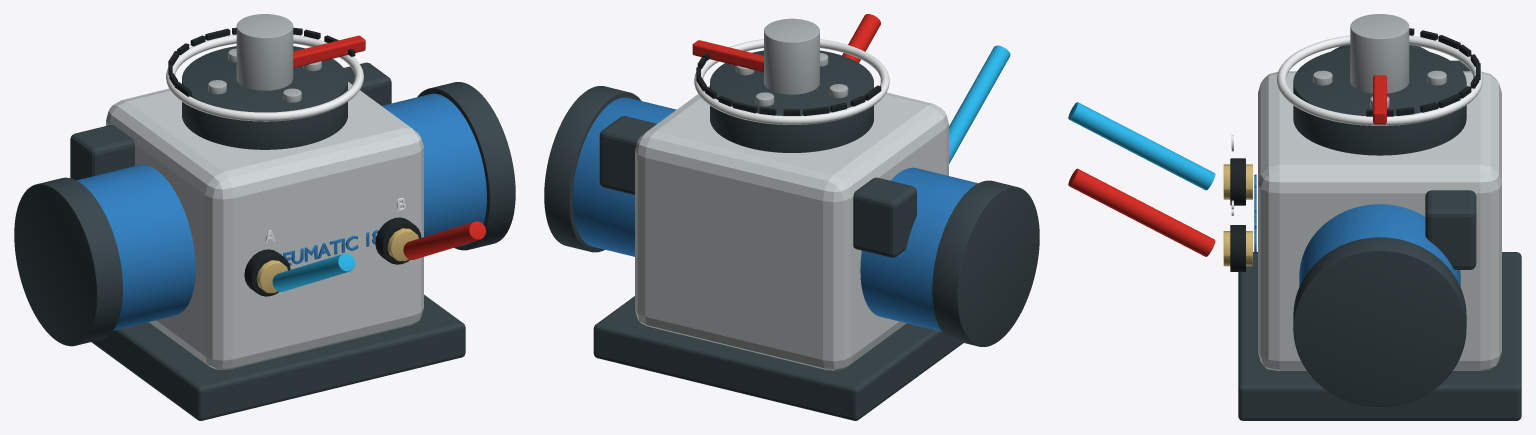
The model's file is pneumatic_rotary_actuator.glb.
3 views of the same model, side by side, from view 1: azimuth 30°, elevation 25°; view 2: azimuth 150°, elevation 25°; view 3: azimuth 270°, elevation 25° (orthographic). The views are drawn at different scales.
Visible parts, largest first — view 1: ACTUATOR_BODY, MOUNT, LEFT_END_CAP, RACK_PISTON_LEFT, KIN_OUTPUT_FLANGE, RACK_PISTON_RIGHT, RIGHT_END_CAP, OUTPUT_SHAFT, ANGLE_SCALE, ANGLE_STOP_LEFT, AIR_LINE_0.2, AIR_LINE_-0.2 (+7 smaller); view 2: ACTUATOR_BODY, MOUNT, LEFT_END_CAP, KIN_OUTPUT_FLANGE, RACK_PISTON_LEFT, RACK_PISTON_RIGHT, RIGHT_END_CAP, ANGLE_STOP_LEFT, OUTPUT_SHAFT, ANGLE_SCALE, ANGLE_STOP_RIGHT, AIR_LINE_-0.2 (+2 smaller); view 3: ACTUATOR_BODY, RIGHT_END_CAP, MOUNT, KIN_OUTPUT_FLANGE, RACK_PISTON_RIGHT, OUTPUT_SHAFT, ANGLE_SCALE, ANGLE_STOP_RIGHT, AIR_LINE_0.2, AIR_LINE_-0.2, PORT_CW_elbow, PORT_CCW_elbow (+3 smaller).
Part boxes in pixels (x1,y1,x2,y2): ACTUATOR_BODY: (106,81,423,370); MOUNT: (91,294,465,420); LEFT_END_CAP: (14,177,122,346); RACK_PISTON_LEFT: (76,164,195,330); KIN_OUTPUT_FLANGE: (182,46,347,149); RACK_PISTON_RIGHT: (382,93,486,246); RIGHT_END_CAP: (417,82,515,250); OUTPUT_SHAFT: (236,14,293,90); ANGLE_SCALE: (166,34,363,121); ANGLE_STOP_LEFT: (70,125,134,180); AIR_LINE_0.2: (403,221,485,259); AIR_LINE_-0.2: (272,253,354,291); ACTUATOR_BODY: (635,85,948,370); MOUNT: (593,296,963,420); LEFT_END_CAP: (932,180,1039,346); KIN_OUTPUT_FLANGE: (710,50,873,152); RACK_PISTON_LEFT: (860,167,977,331); RACK_PISTON_RIGHT: (572,97,676,256); RIGHT_END_CAP: (544,86,641,252); ANGLE_STOP_LEFT: (853,177,916,257); OUTPUT_SHAFT: (764,18,819,94); ANGLE_SCALE: (694,39,889,124); ANGLE_STOP_RIGHT: (599,116,656,195); AIR_LINE_-0.2: (949,45,1010,163); ACTUATOR_BODY: (1258,71,1501,370); RIGHT_END_CAP: (1293,237,1466,406); MOUNT: (1238,252,1521,420); KIN_OUTPUT_FLANGE: (1293,47,1466,155); RACK_PISTON_RIGHT: (1299,204,1460,286); OUTPUT_SHAFT: (1350,14,1409,93); ANGLE_SCALE: (1277,35,1482,125); ANGLE_STOP_RIGHT: (1425,190,1476,269); AIR_LINE_0.2: (1068,168,1215,256); AIR_LINE_-0.2: (1068,102,1215,190); PORT_CW_elbow: (1230,158,1245,205); PORT_CCW_elbow: (1230,225,1245,271).
Size of the model in its own units: 1.28 by 0.92 by 1.15.
